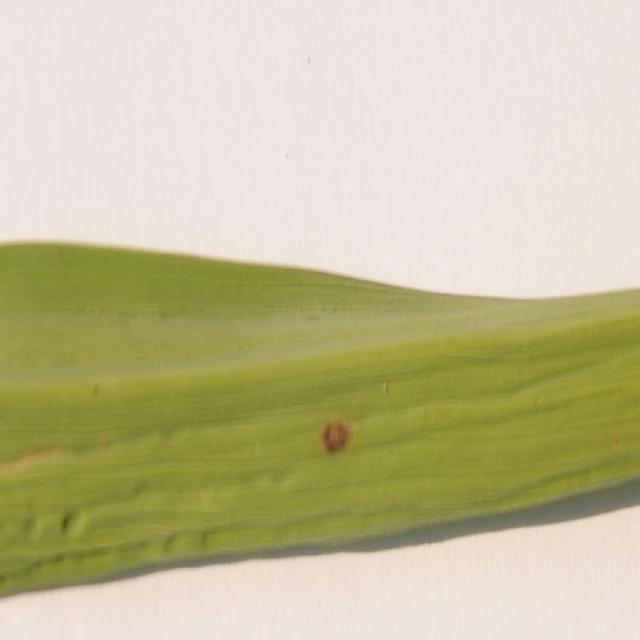brownspots: (316, 412, 352, 460)
